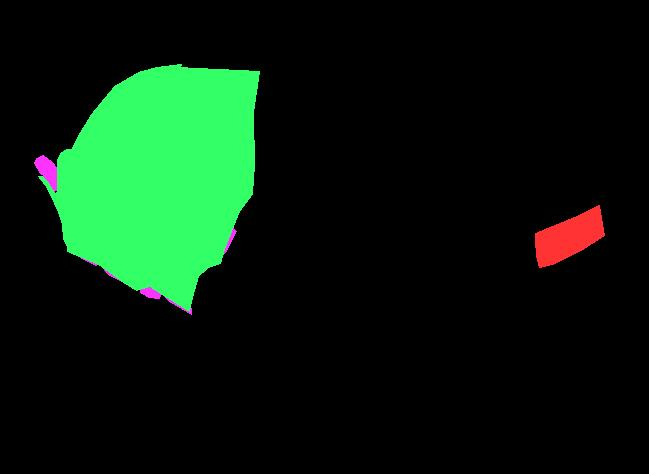Broken part: (131, 67, 259, 311), (60, 64, 181, 290), (38, 149, 72, 247)
Dent: (145, 192, 236, 287), (139, 242, 191, 314), (66, 202, 106, 265), (99, 245, 145, 288), (34, 155, 59, 192), (140, 280, 161, 298)
Missing part: (535, 205, 604, 267)
